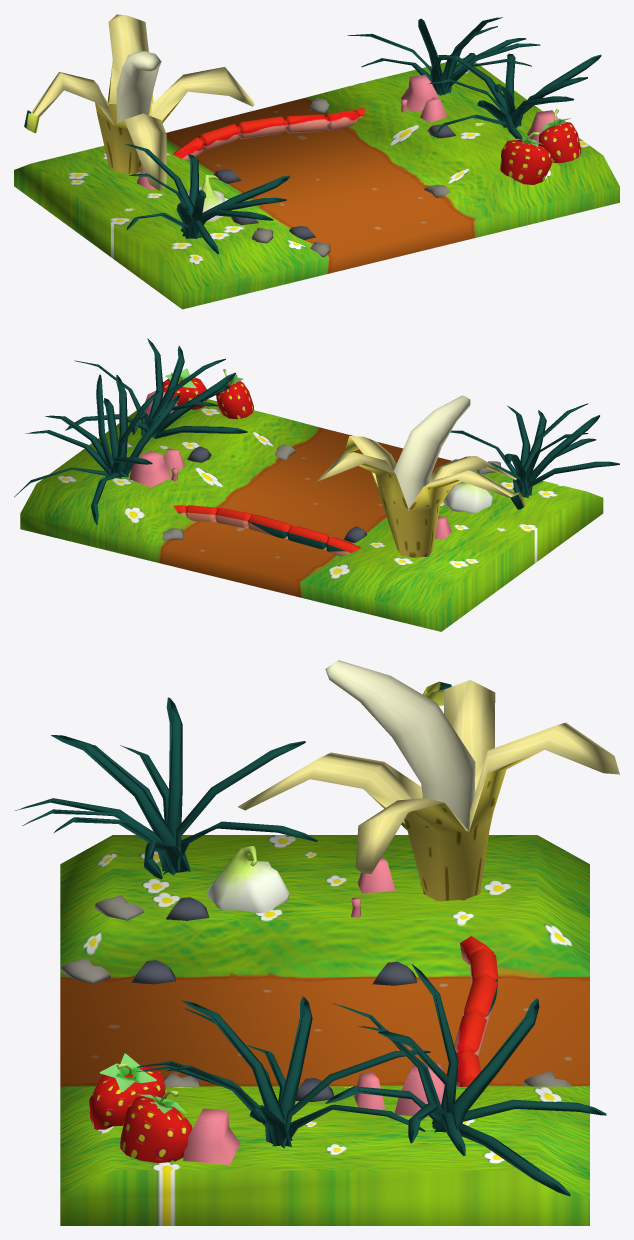
Rendered from D_block_16.FBX.
The picture shows the model from 3 angles, top to bottom: view 1: azimuth 30°, elevation 25°; view 2: azimuth 150°, elevation 25°; view 3: azimuth 270°, elevation 25°; orthographic projection. The views are drawn at different scales.
Visible parts, largest first — view 1: sol; view 2: sol; view 3: sol.
Part boxes in pixels (x1,y1,x2,y2): sol: (14, 14, 619, 309); sol: (14, 338, 619, 631); sol: (15, 660, 619, 1225).
Size of the model in its own units: 1072 by 339 by 686.
